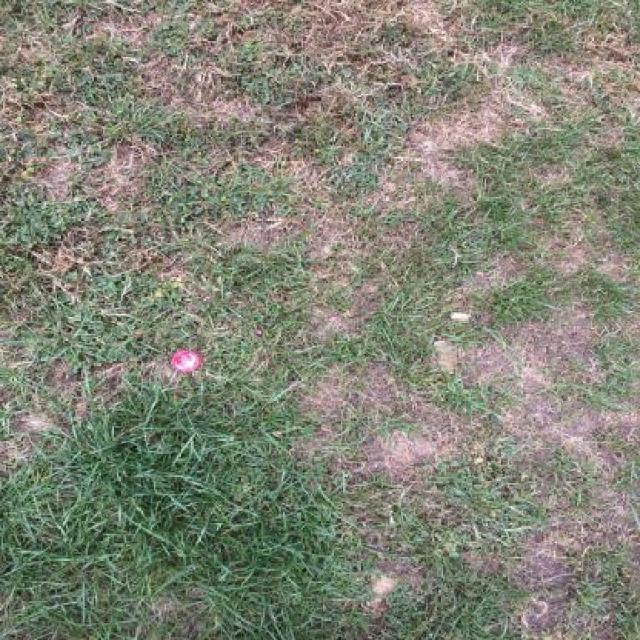Garbage: (171, 350, 204, 372)
